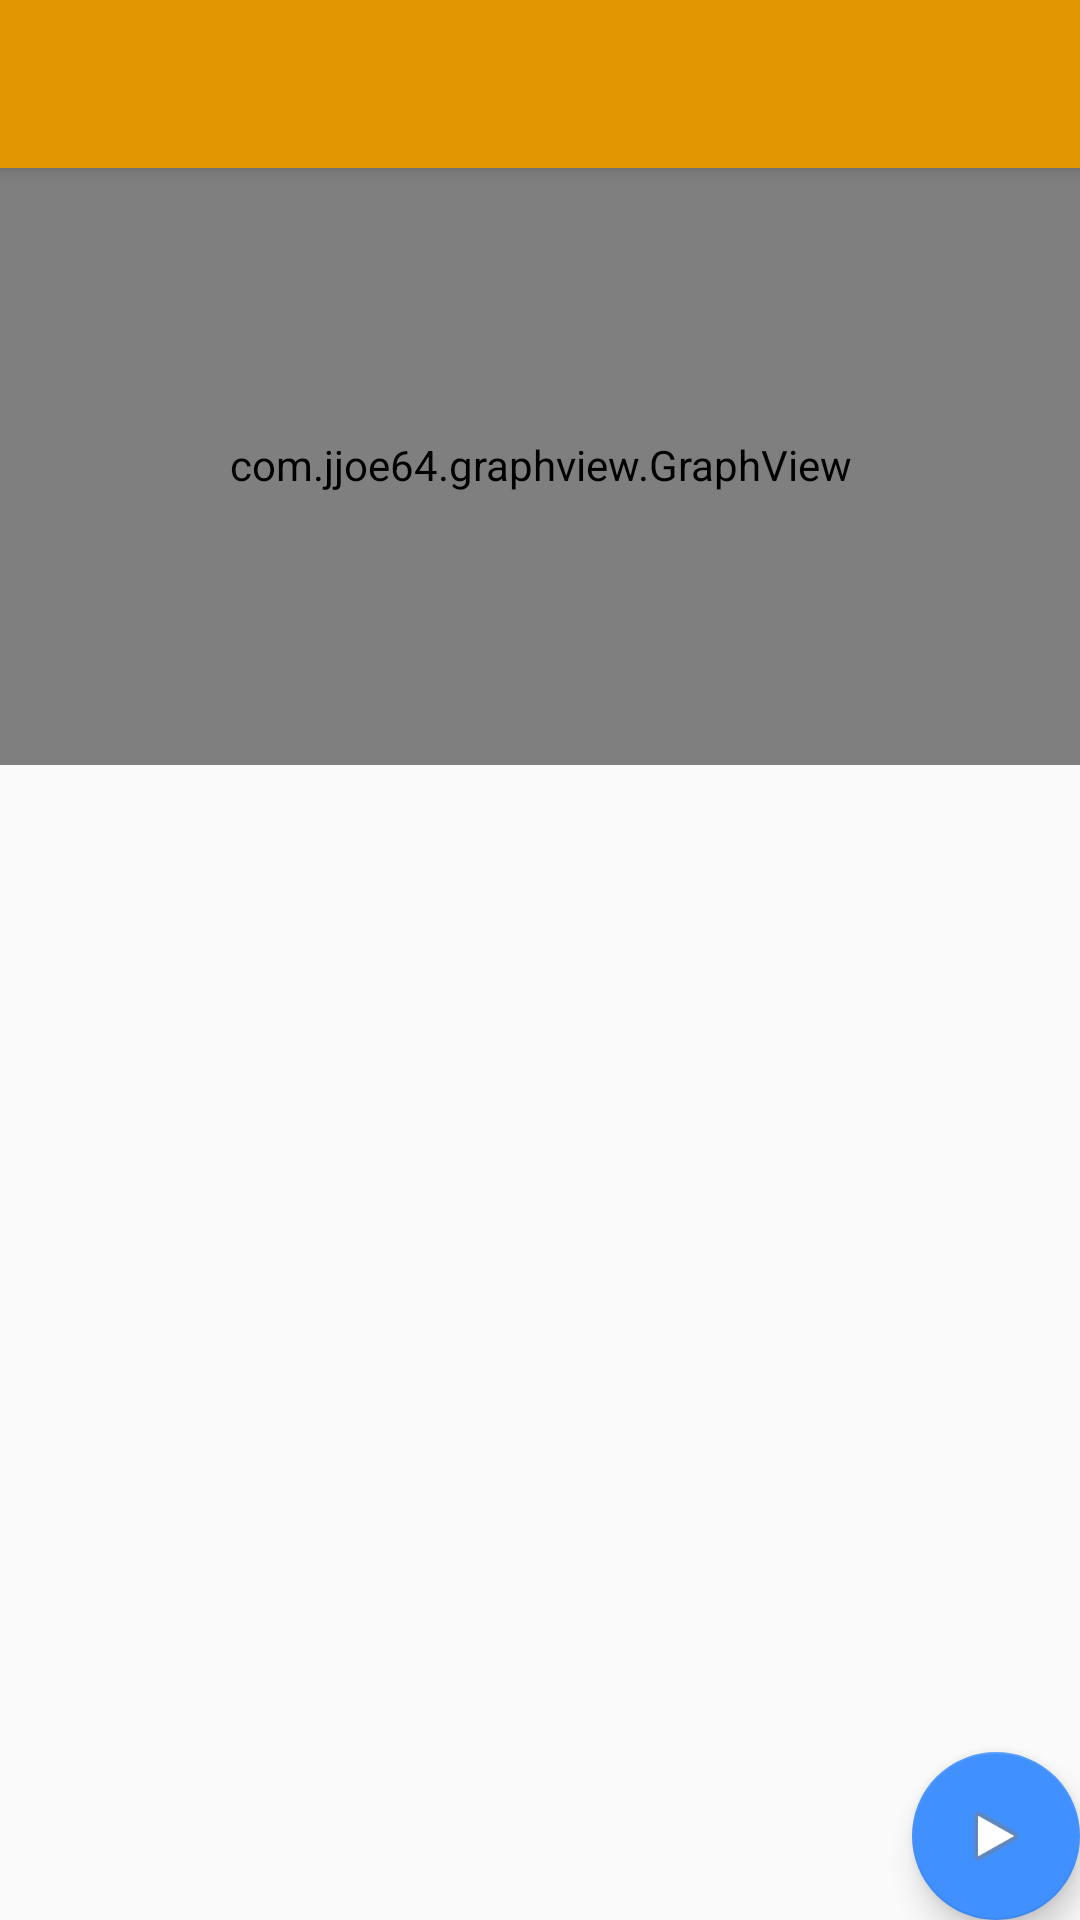

Named icons in this screenshot (1080*1920) and their centers, (x,y):
play: (996,1836)
